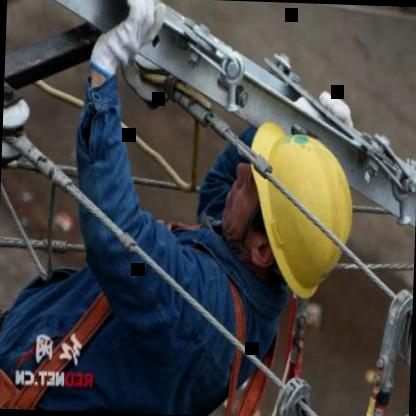helmet: (222, 124, 362, 303)
